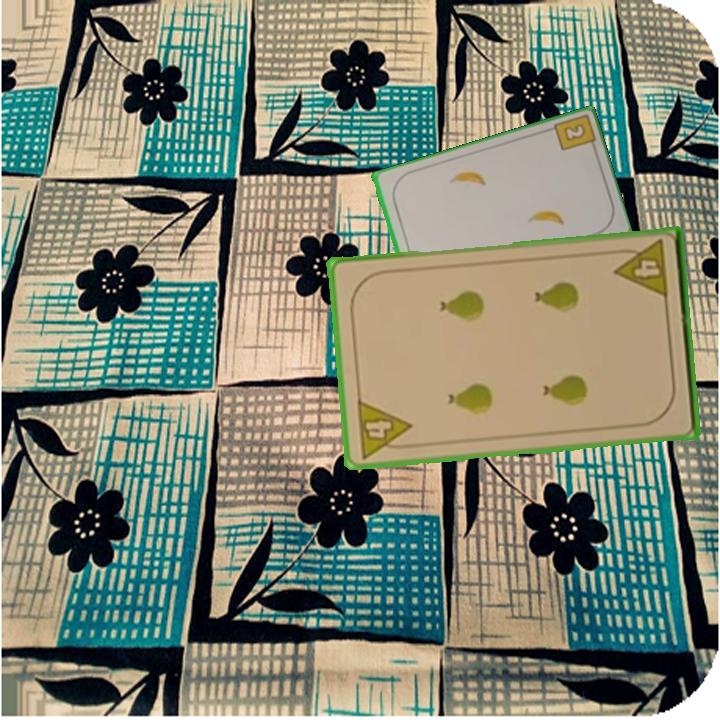2b: (548, 113, 598, 155)
4p: (353, 396, 416, 461), (610, 237, 671, 302)
